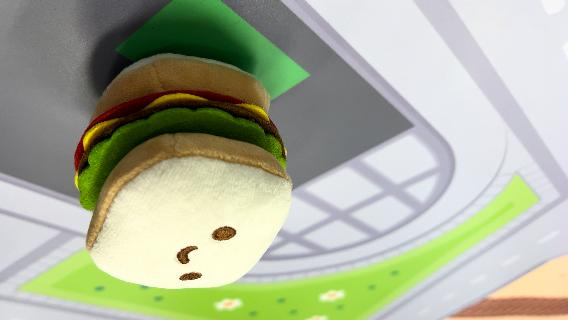sandwich: (71, 51, 295, 290)
